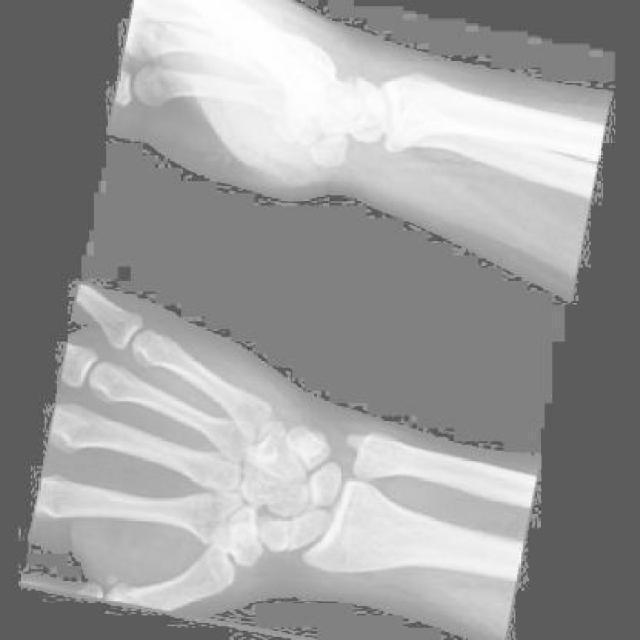Fracture: (318, 71, 377, 144), (274, 514, 303, 559)
